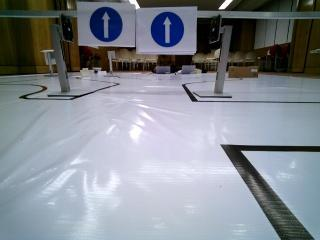straight: (133, 9, 198, 53), (79, 3, 135, 48)
